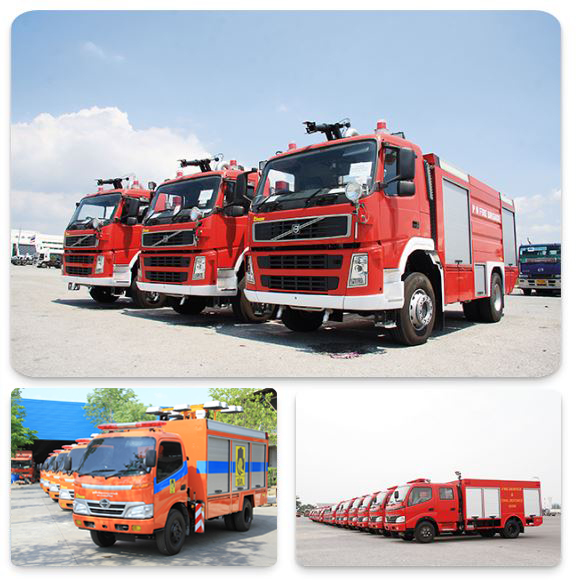truck: (247, 131, 524, 342), (73, 410, 273, 557), (138, 163, 244, 325), (384, 477, 548, 545), (61, 167, 136, 310)
